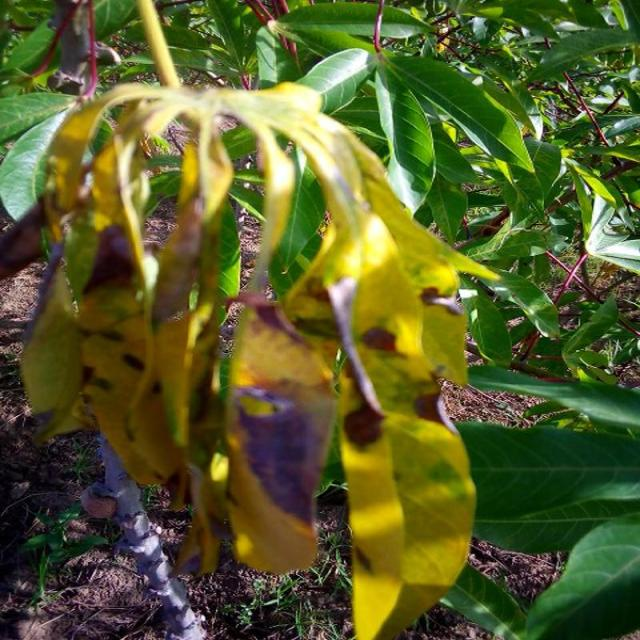cassava leaf: (16, 75, 498, 638)
